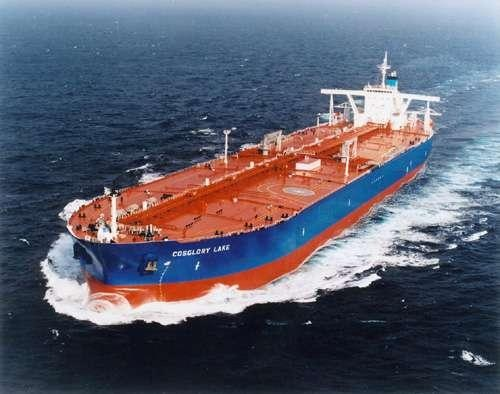Cargoship: (59, 45, 444, 314)
